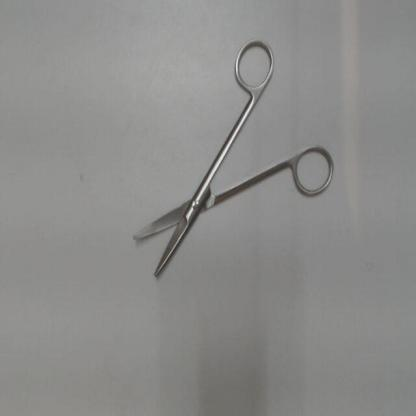Curved Mayo Scissors: (126, 33, 340, 286)
